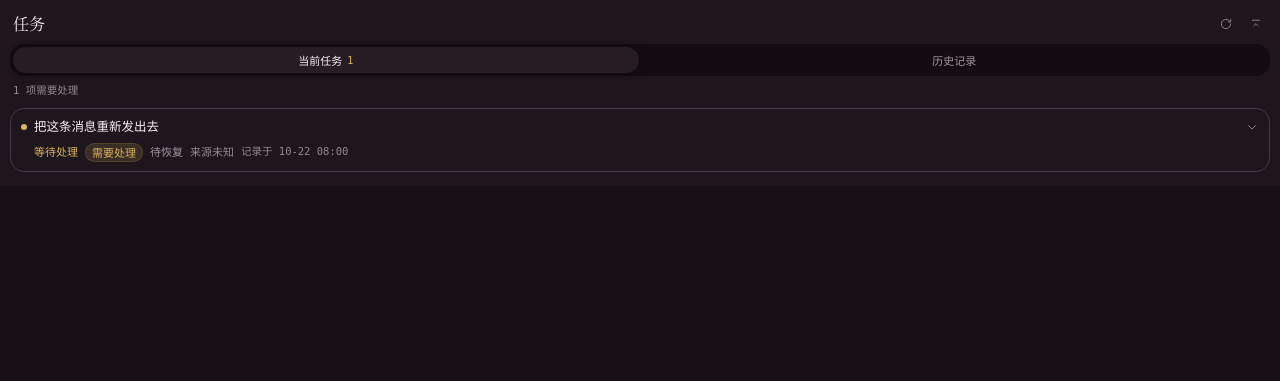
Scenario: 加载、失败与重试 › 恢复事项合并进当前任务并标明来源
Step 1. Click the button with class "task-trigger" → x=97, y=126, box x1=34 y1=118 x2=1259 y2=137
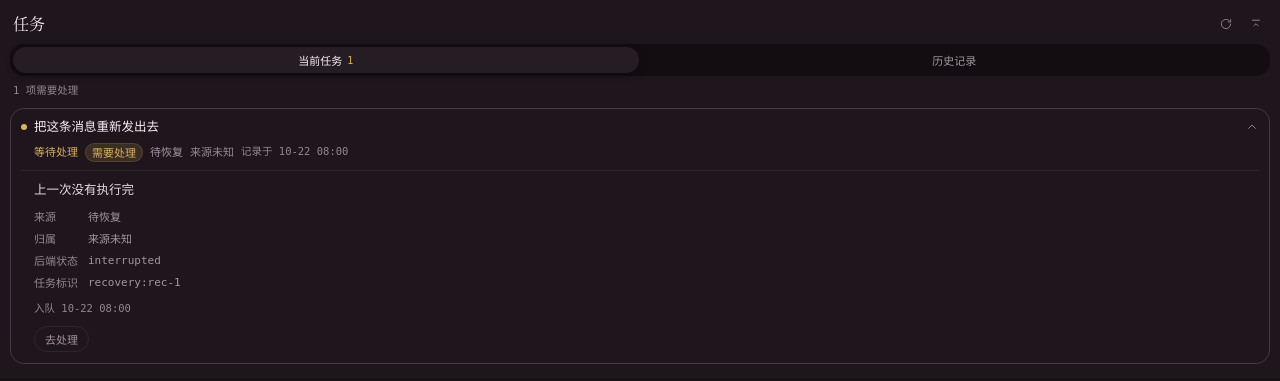
Expected: the text "去处理" is shown, x1=34 y1=326 x2=89 y2=352
